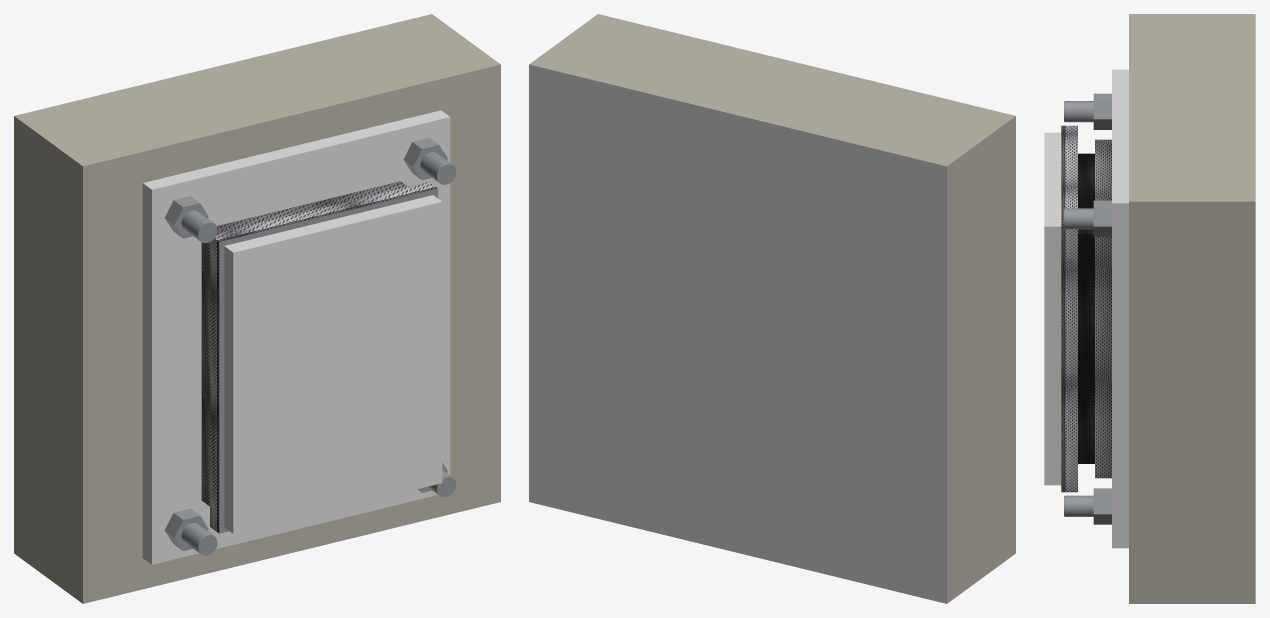
Rendered from bearing_15.obj.
The picture shows the model from 3 angles, left to right: view 1: azimuth 30°, elevation 25°; view 2: azimuth 150°, elevation 25°; view 3: azimuth 270°, elevation 25°; orthographic projection. The views are drawn at different scales.
Parts seen in each view (by area): view 1: _8, Color_001, _2, Metal_Rough; view 2: Color_001, _8; view 3: _8, Color_001, _2, _5, Metal_Rough.
Part boxes in pixels (box(x1,y1,x2,y2)): _8: box(14, 14, 500, 603); Color_001: box(142, 110, 450, 564); _2: box(201, 181, 437, 533); Metal_Rough: box(164, 137, 456, 555); Color_001: box(529, 64, 946, 603); _8: box(529, 14, 1015, 603); _8: box(1129, 14, 1255, 603); Color_001: box(1044, 69, 1128, 548); _2: box(1061, 125, 1111, 492); _5: box(1078, 153, 1094, 463); Metal_Rough: box(1064, 93, 1111, 524).
Bounding box in the file's own units: 0.756 × 0.7564 × 0.3602.
